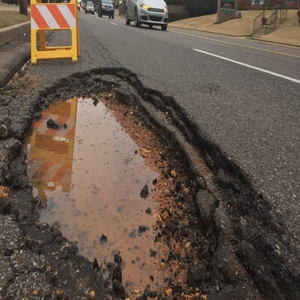pothole: (11, 67, 284, 300)
